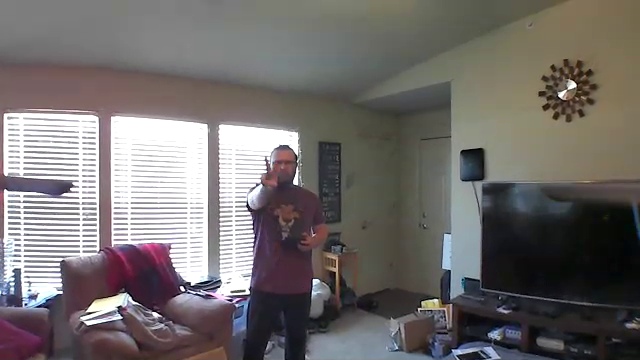peace: (258, 154, 285, 194)
